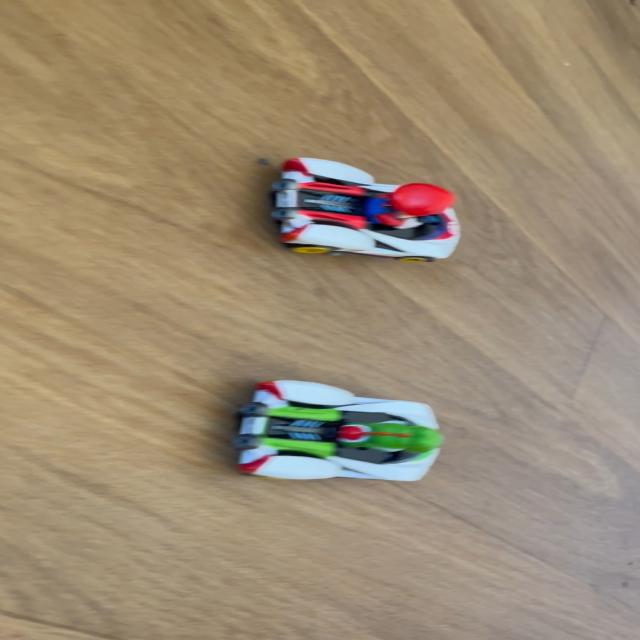mario: (241, 156, 484, 273)
yoshi: (211, 370, 465, 486)
